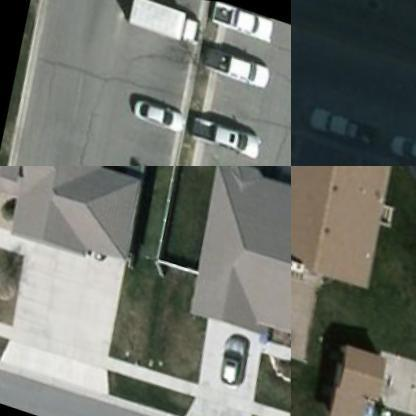car: (312, 91, 384, 144), (201, 40, 273, 84), (193, 110, 264, 154), (208, 0, 279, 41), (210, 324, 253, 384), (132, 90, 186, 128), (391, 125, 415, 165)
